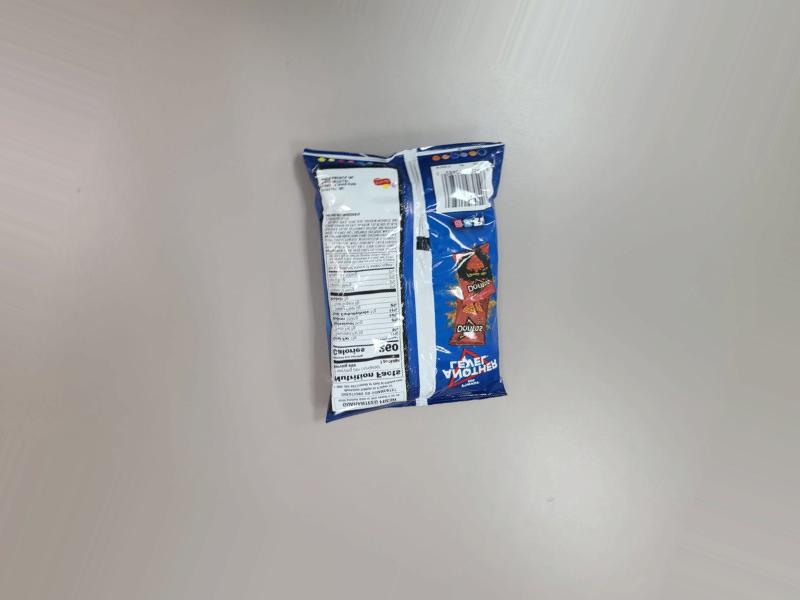doritos: (300, 177, 493, 448)
